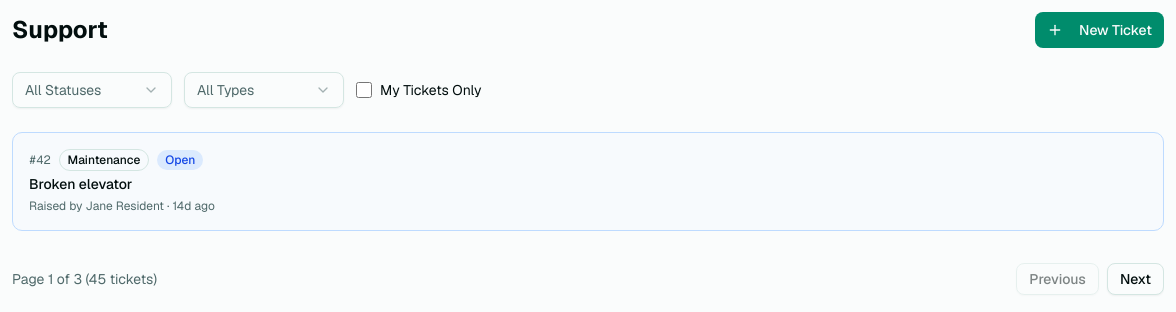
Scenario: ResidentSupportPage › pagination › navigates to next page
Click the button "Next": {"x": 1135, "y": 279} [1107,263,1164,295]
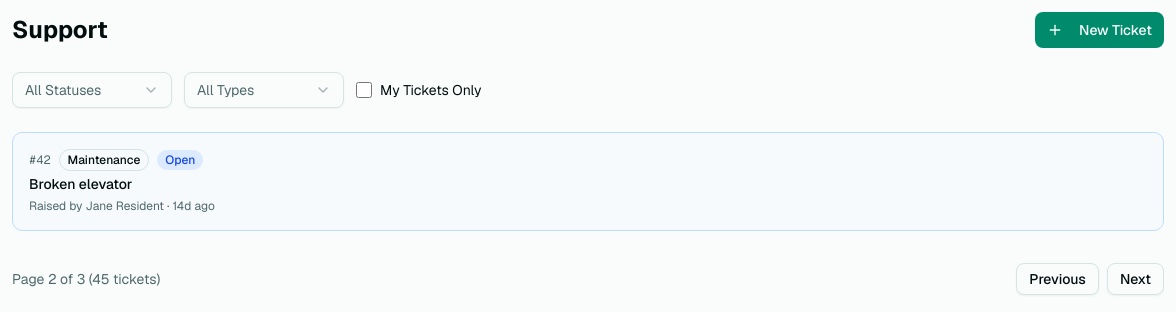
Check: the text "Page 2 of 3 (45 tickets)" is shown, box [12,269,160,289]
